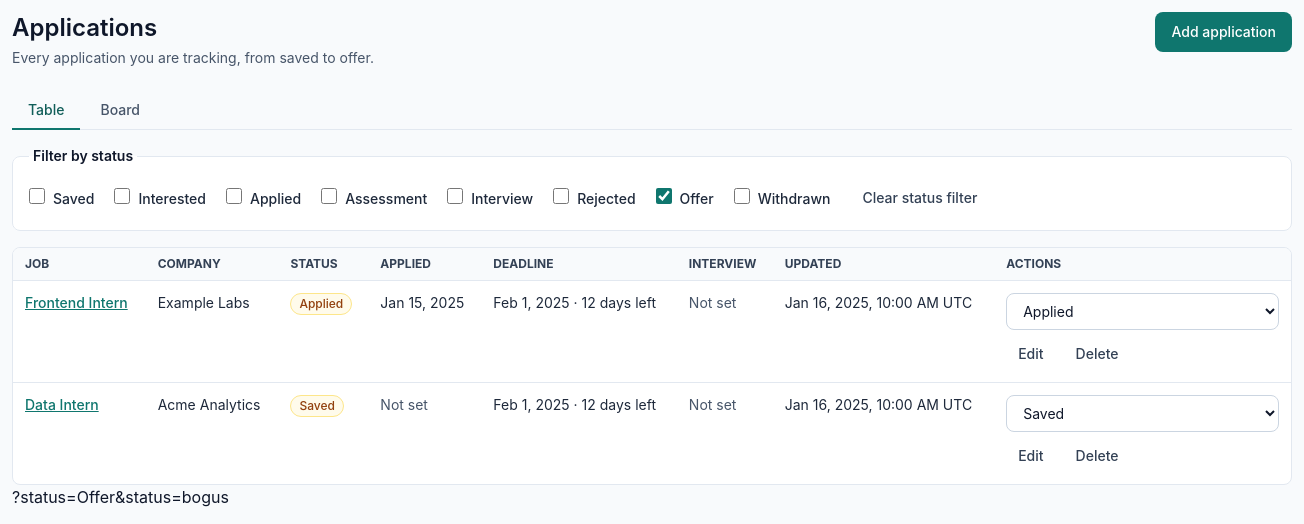
Test: ApplicationsPage › writes the status filter to the URL and sends it to the API when statuses are checked
Expected: the checkbox labelled "Offer" is checked, [656, 188, 672, 204]
Click the checkbox labelled "Applied" at {"x": 234, "y": 196}, box [226, 188, 242, 204]
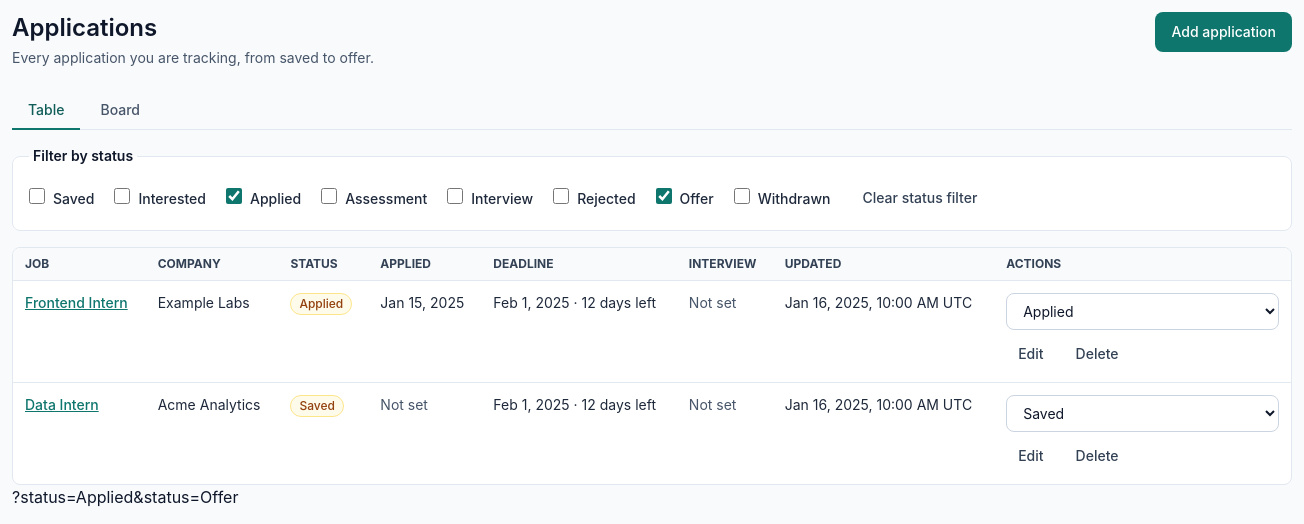
Expected: the text with test id "location" reads "?status=Applied&status=Offer", [12, 487, 238, 507]
